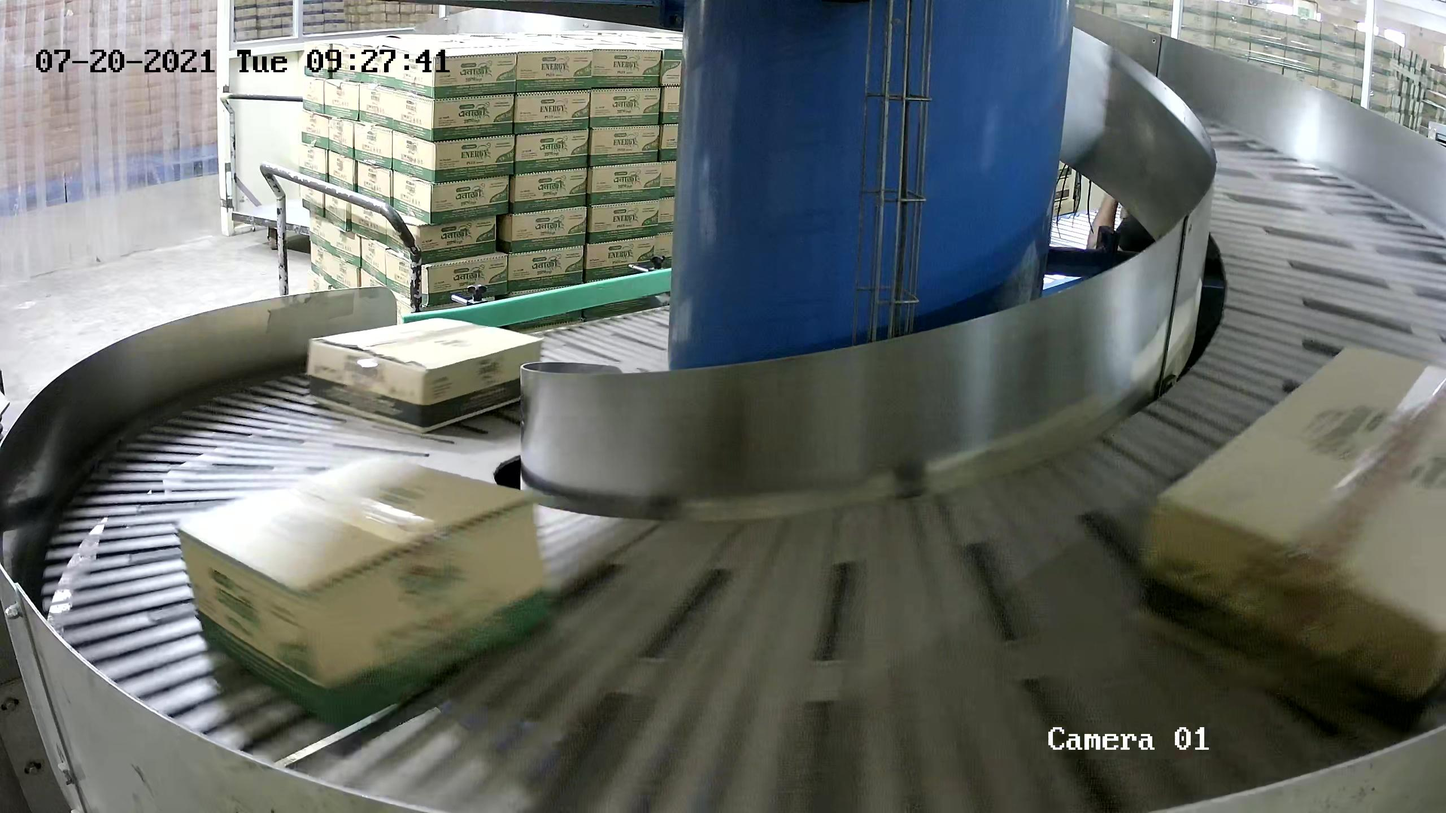Box: (1134, 344, 1446, 759), (175, 455, 549, 731), (306, 316, 542, 434)
